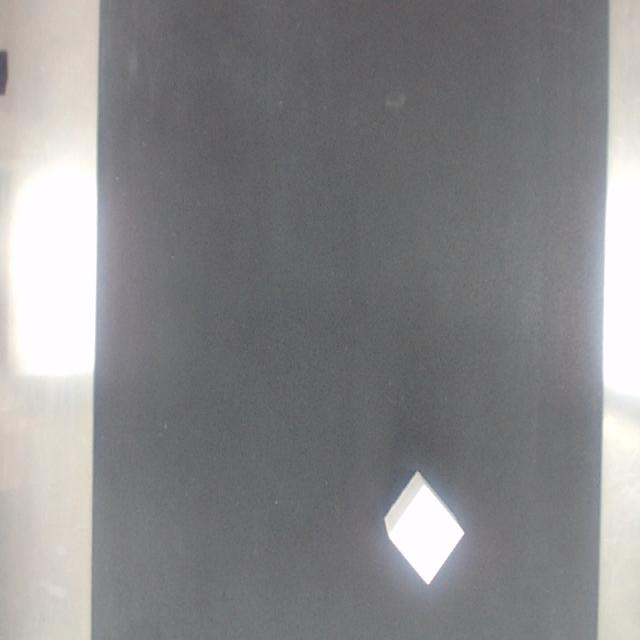Blanco: (384, 471, 464, 584)
